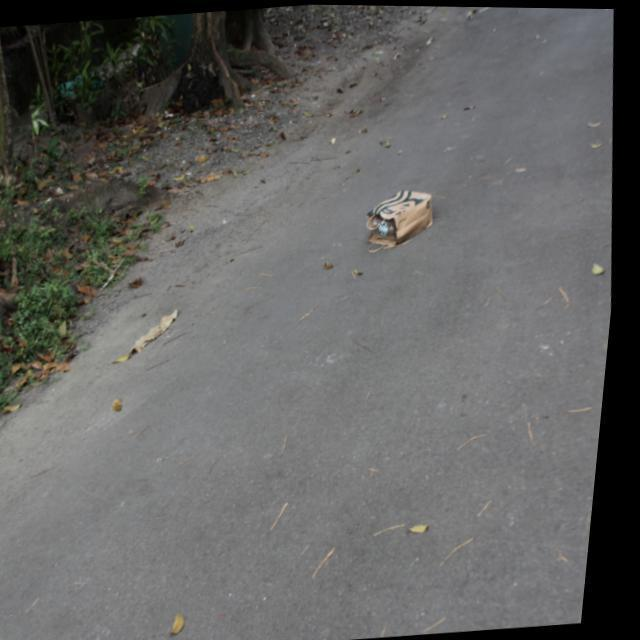Paper_Bag: (365, 185, 442, 252)
